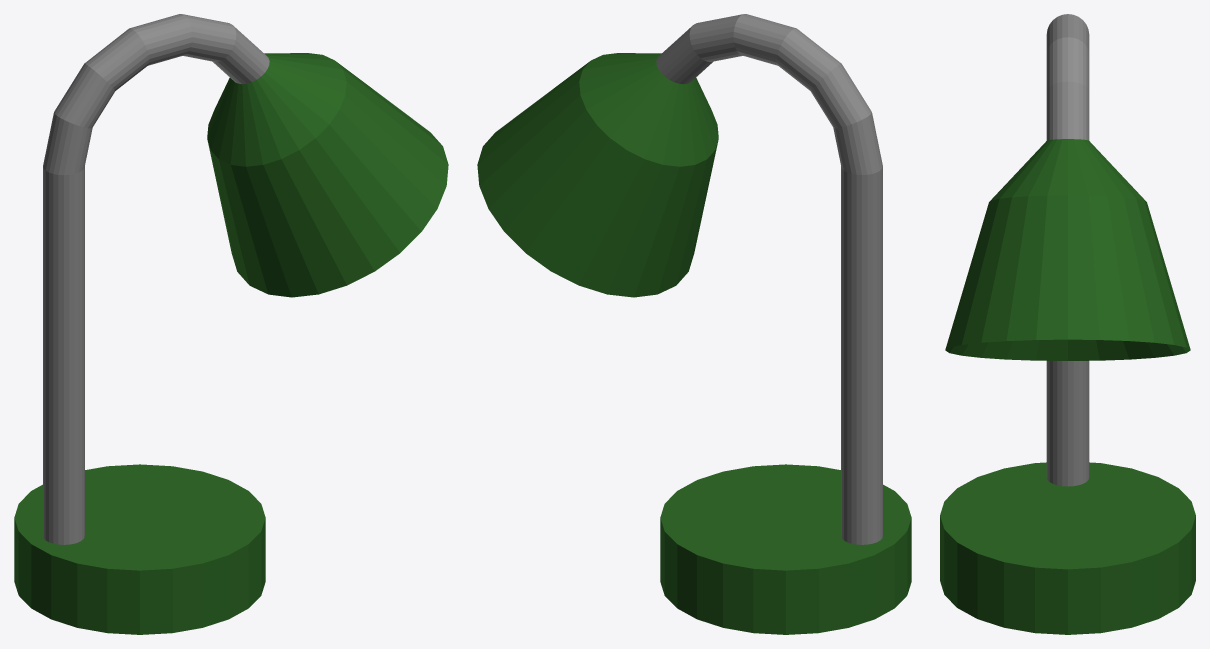
Rendered from lamp.glb.
3 renders of one model, left to right at view 1: azimuth 30°, elevation 25°; view 2: azimuth 150°, elevation 25°; view 3: azimuth 270°, elevation 25°, orthographic.
Parts seen in each view (by area): view 1: Cube; view 2: Cube; view 3: Cube.
Part boxes in pixels (x1,y1,x2,y2): Cube: (14,14,448,634); Cube: (477,14,911,634); Cube: (940,14,1195,634).
Size of the model in its own units: 0.8442 by 1.12 by 0.46.
2 materials, 2 textured.
